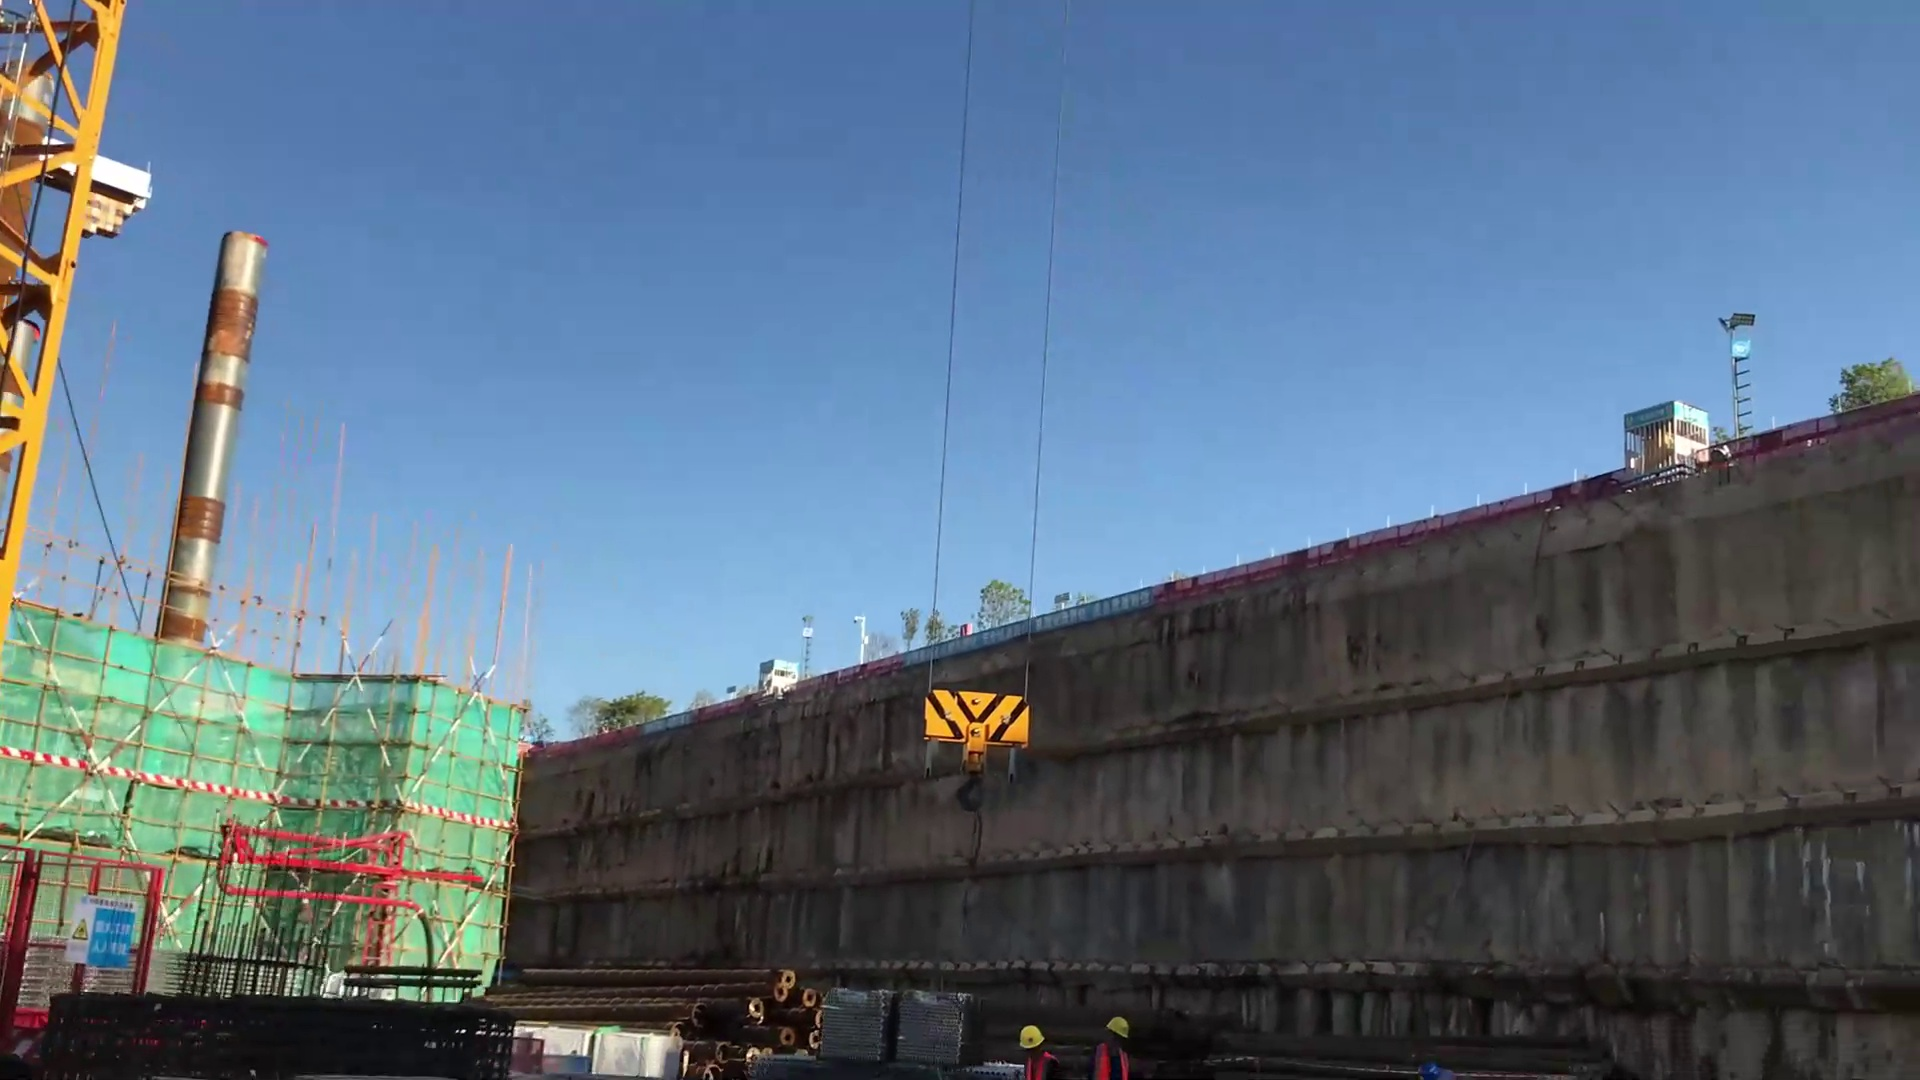helmet: (1015, 1025, 1056, 1048), (1097, 1007, 1127, 1038)
hook: (916, 680, 1038, 818)
vest: (1096, 1031, 1145, 1080), (1013, 1056, 1062, 1080)
